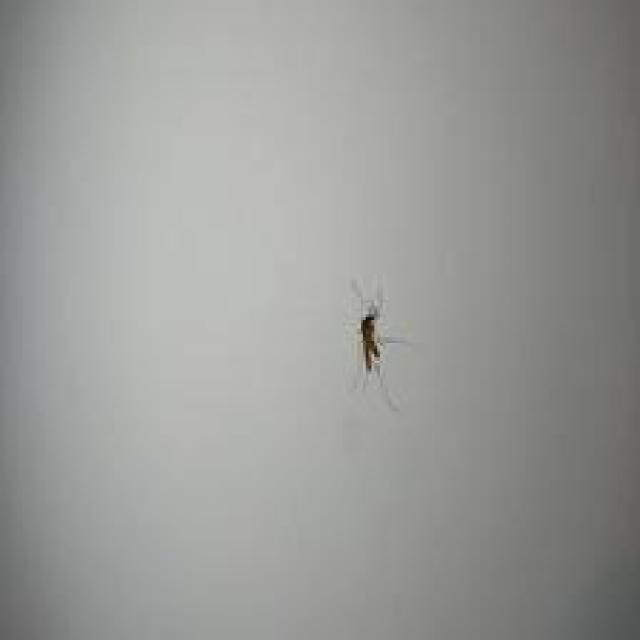Culex: (347, 276, 407, 413)
